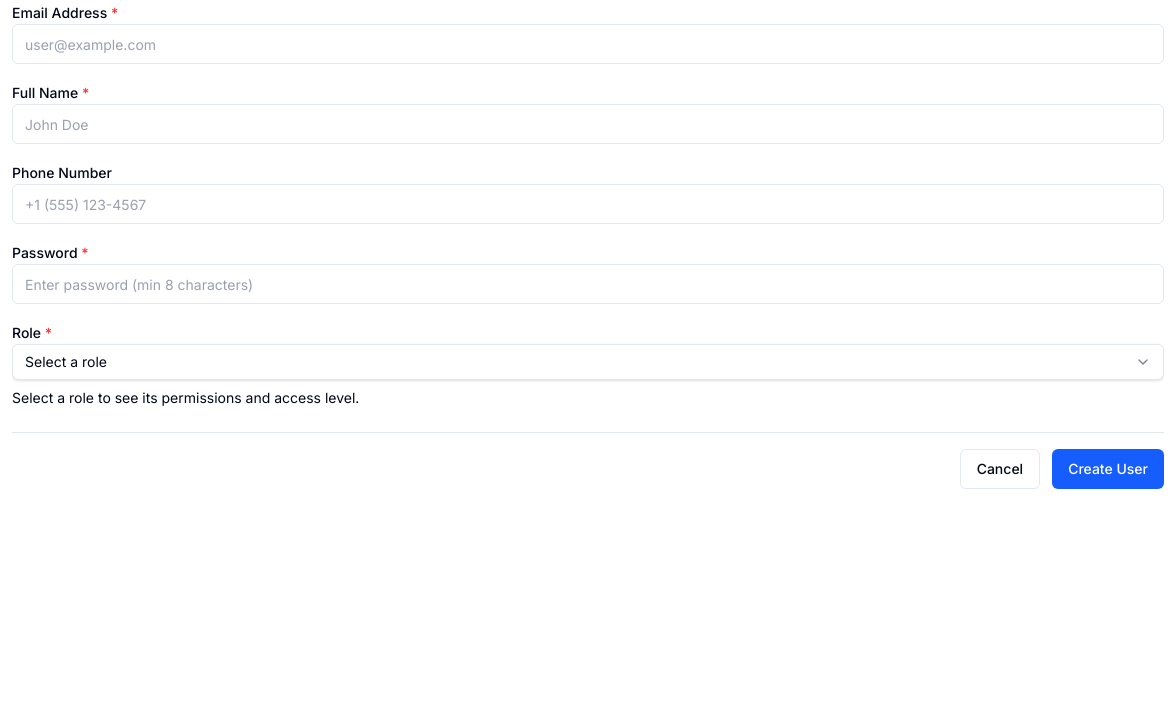
Test: UserForm Component › Create Mode › should display validation error for name that is too short
The image size is (1176, 720).
Type "A" into the field labelled "Full Name *" at x=588, y=124, box [12,104,1164,144]
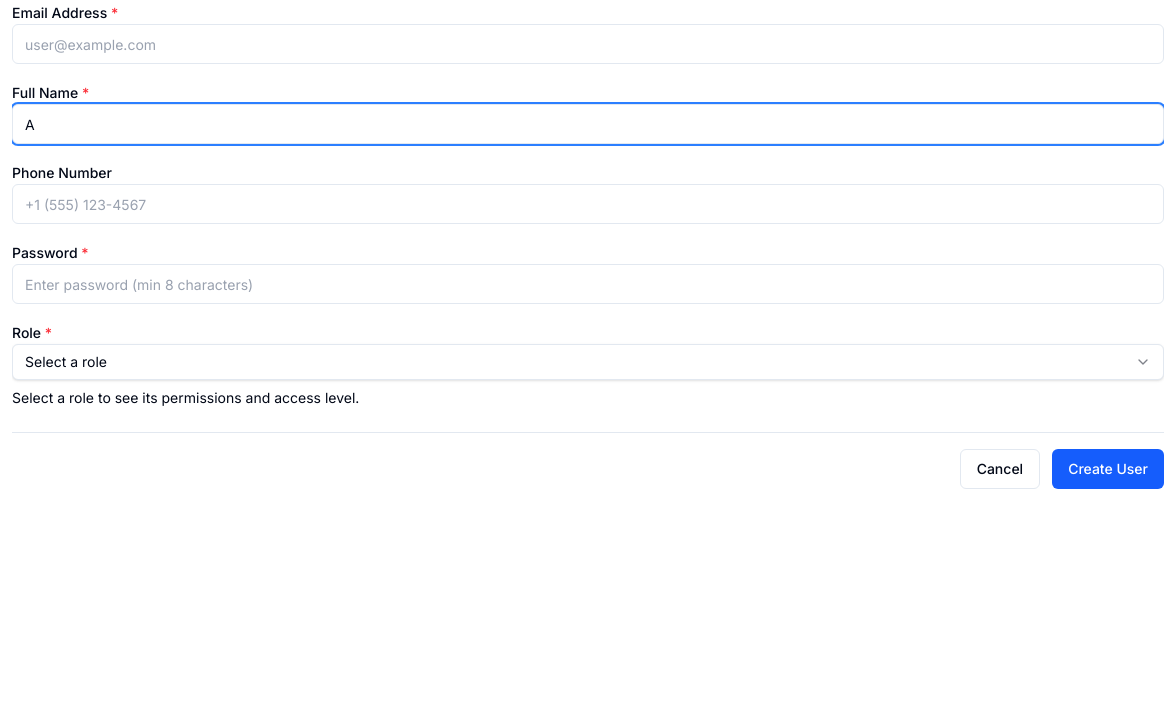
Press Tab
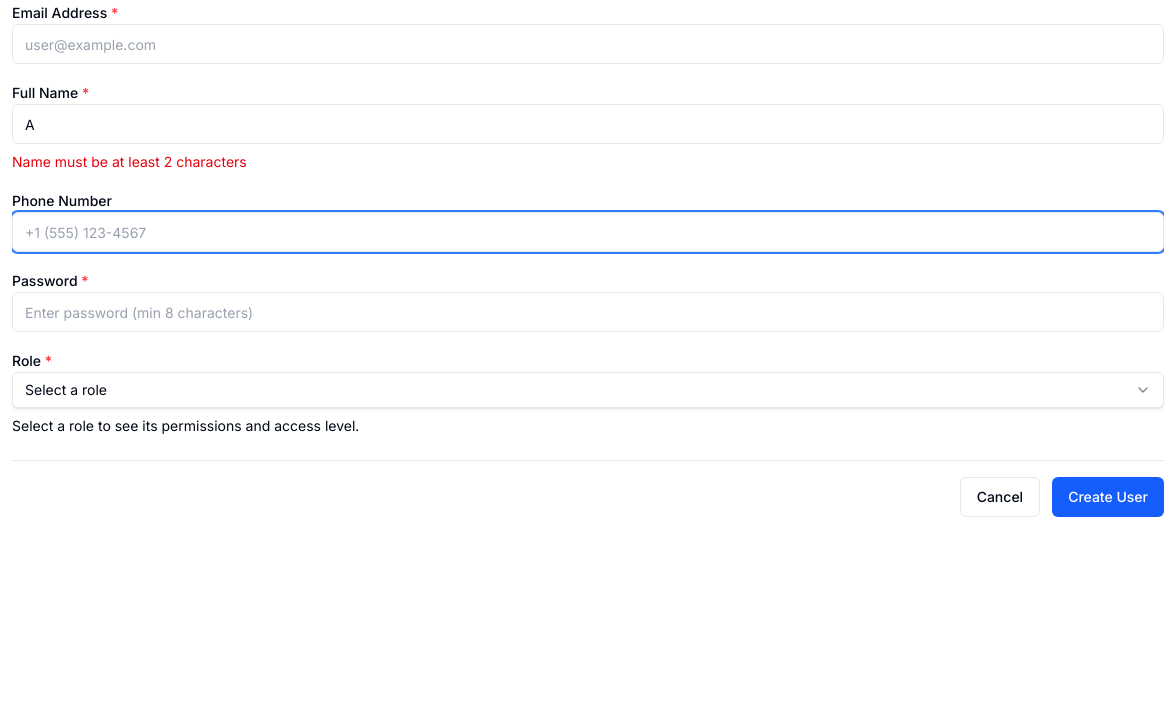
expect the text "Name must be at least 2 characters" is shown: met, box [12,153,247,170]
